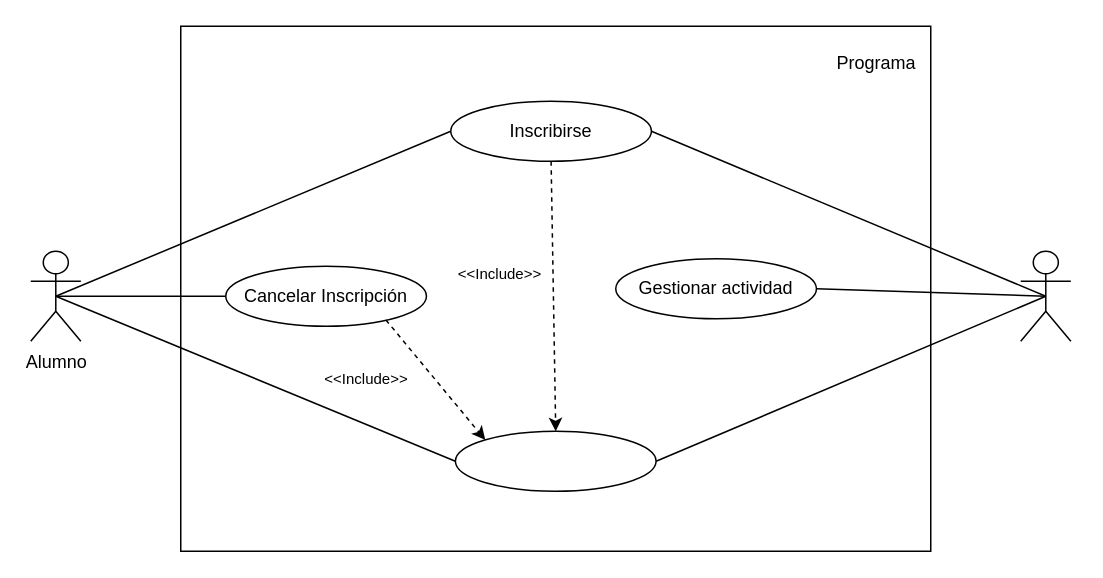
Image size: 1103x578. Some labels were removed from this diagram. The centre of each missing label's shape, as x and y in pixels:
"Consultar actividad" goes at (x=555, y=460).
"Monitor" goes at (x=1045, y=295).
